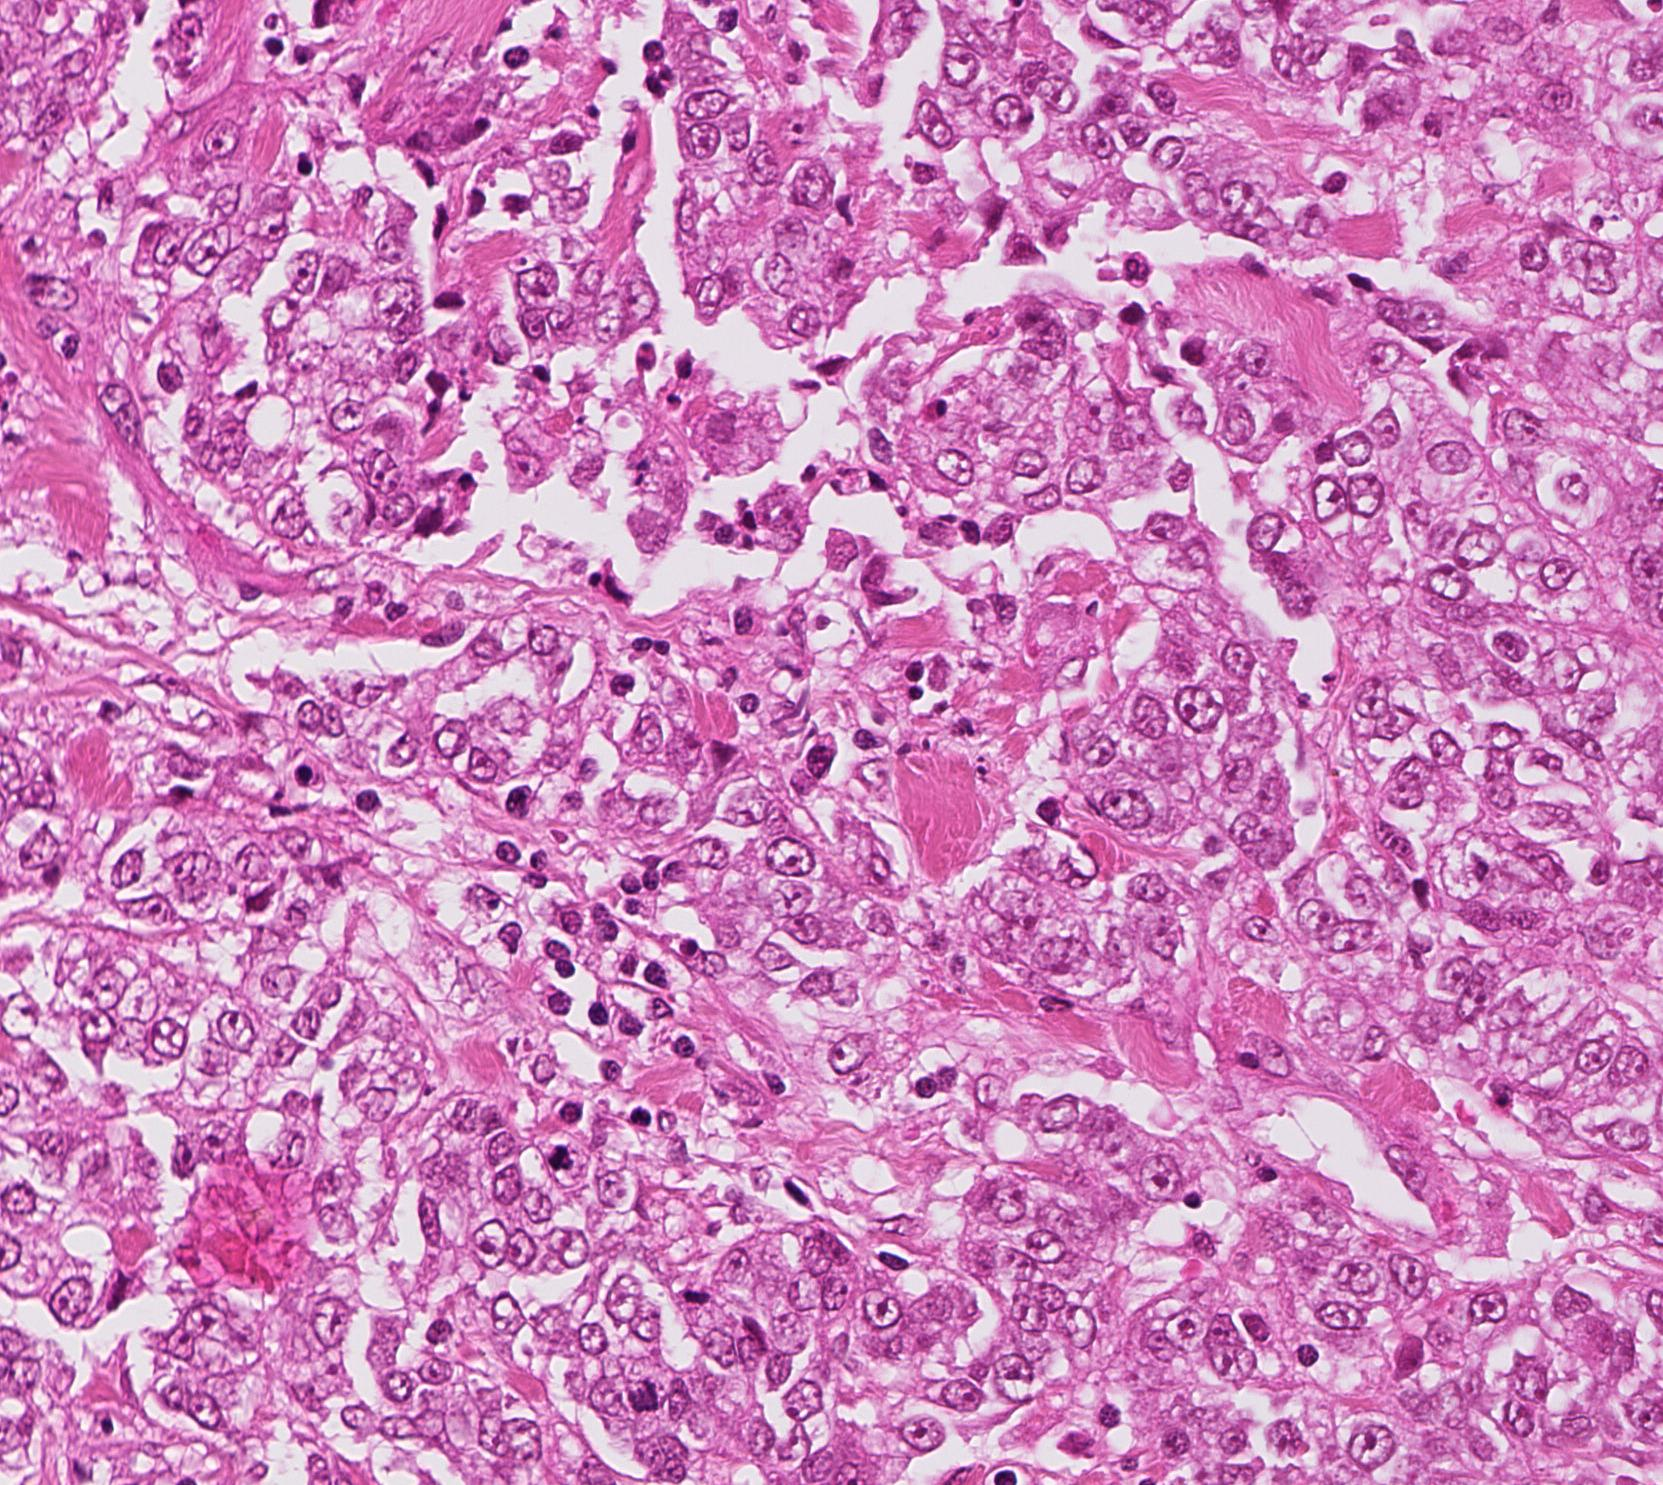mitosis: (614, 1366, 674, 1426)
